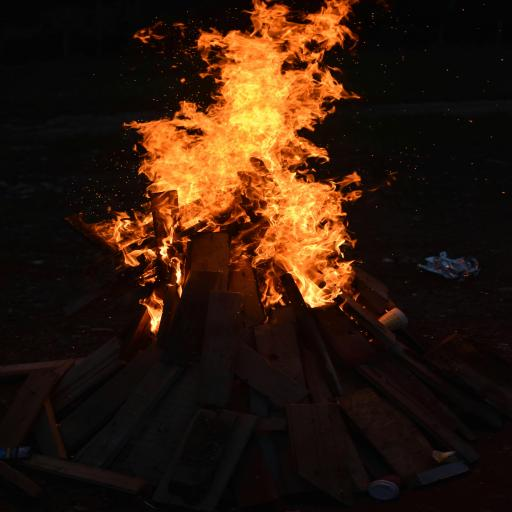campfire: (0, 0, 510, 512)
